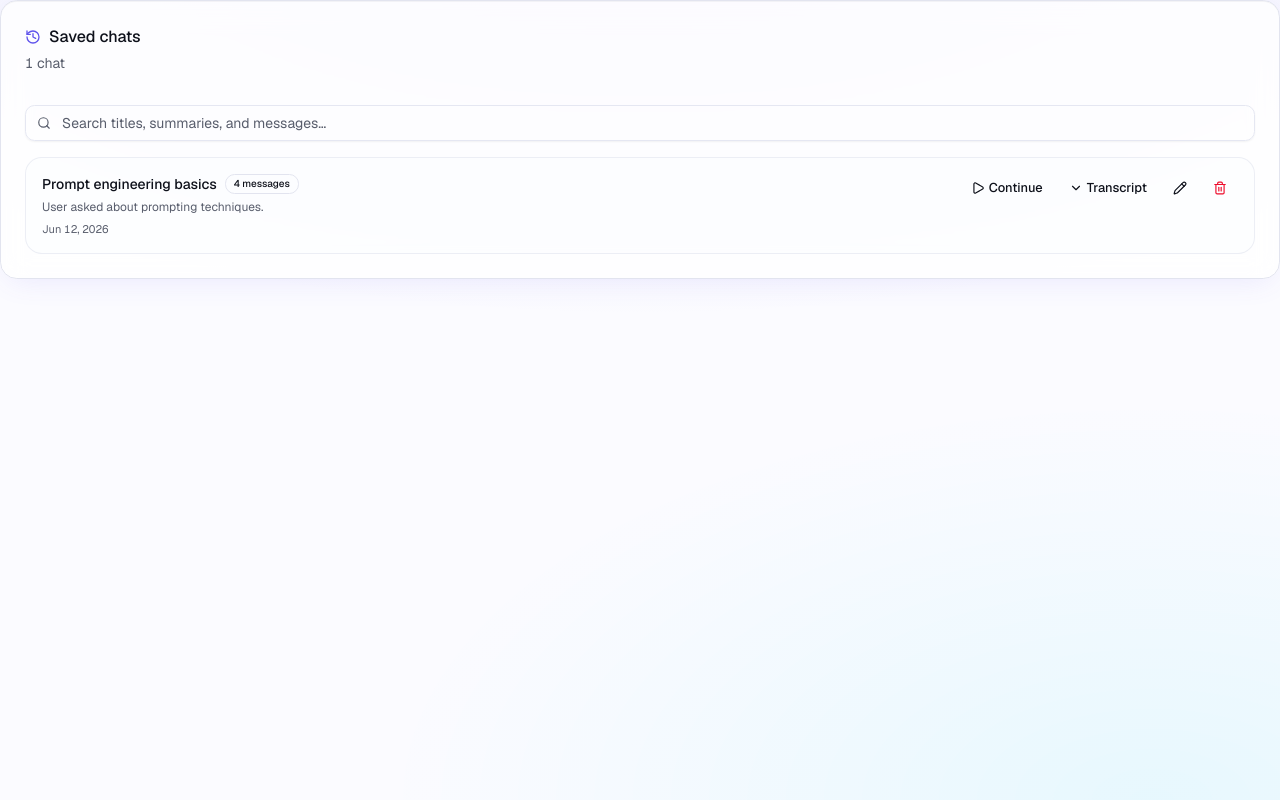
<ChatsList /> › debounced search hits the search endpoint and shows the snippet
expect the text "Prompt engineering basics" is shown: met, box [42,174,217,194]
Type "zebra" into the field with test id "chats-search" at (640, 123), box [25,105,1255,141]
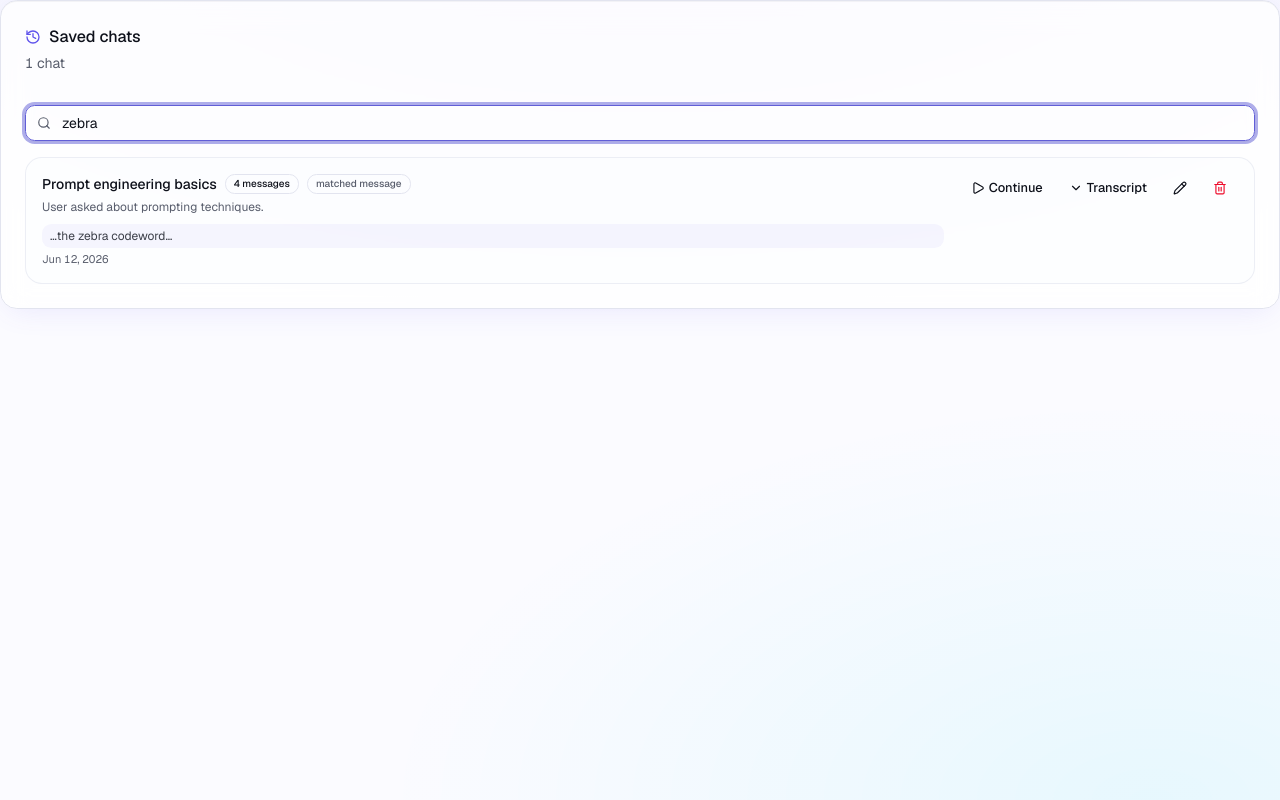
expect the text with test id "chat-snippet" shows "zebra codeword": met, box [50,228,172,244]
expect the text "matched message" is shown: met, box [307,174,411,194]
